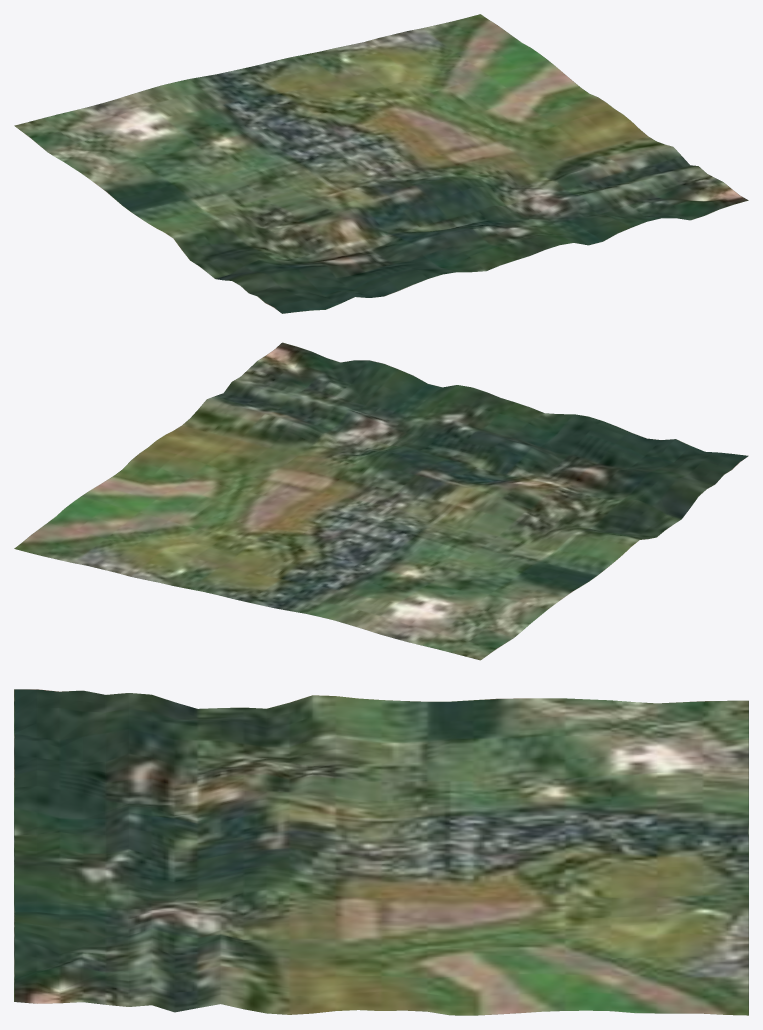
3 renders of one model, top to bottom at view 1: azimuth 30°, elevation 25°; view 2: azimuth 150°, elevation 25°; view 3: azimuth 270°, elevation 25°, orthographic. The views are drawn at different scales.
Bounding box in the file's own units: 1951 × 69.48 × 1943.
1 material, 1 textured.
